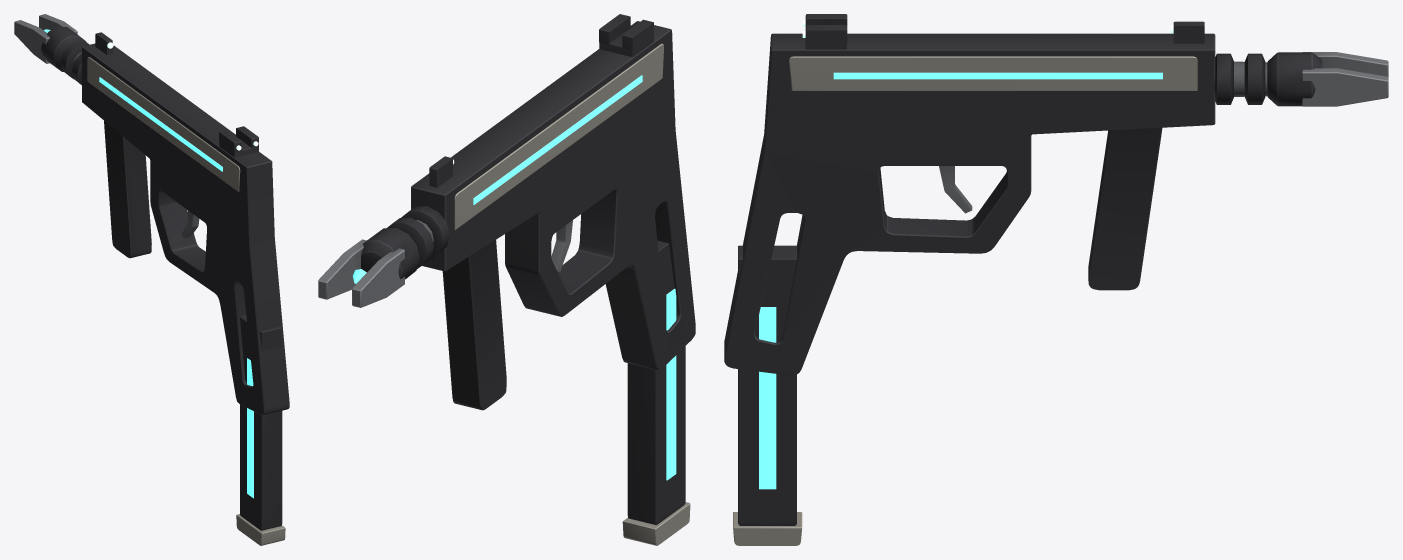
The model's file is e_mpistol.glb.
The picture shows the model from 3 angles, left to right: view 1: azimuth 30°, elevation 25°; view 2: azimuth 150°, elevation 25°; view 3: azimuth 270°, elevation 25°; orthographic projection. The views are drawn at different scales.
Parts seen in each view (by area): view 1: Body, Cell, IronSight; view 2: Body, Cell, IronSight; view 3: Body, Cell, IronSight.
Part boxes in pixels (x1,y1,x2,y2): Body: (14,14,289,415); Cell: (236,315,285,545); IronSight: (95,32,258,157); Body: (318,21,695,410); Cell: (622,240,690,545); IronSight: (429,14,653,187); Body: (724,33,1388,375); Cell: (733,245,802,545); IronSight: (802,14,1204,49).
Bounding box in the file's own units: 0.0313 × 0.3285 × 0.3829.
